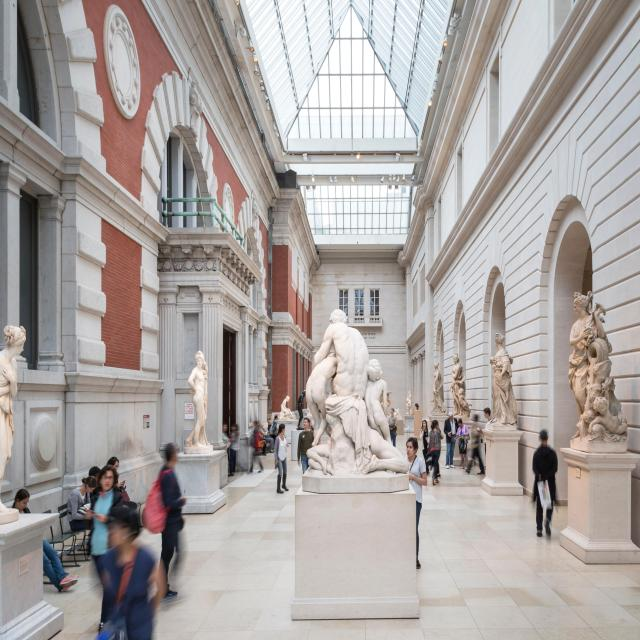body: (304, 308, 409, 474), (86, 498, 170, 640), (568, 290, 628, 444), (140, 441, 189, 605), (11, 488, 79, 593), (1, 323, 28, 532), (399, 435, 429, 571), (82, 464, 123, 543), (531, 429, 558, 538), (488, 332, 518, 426), (184, 349, 211, 448), (66, 475, 98, 532), (106, 456, 138, 513), (450, 352, 473, 416), (426, 418, 444, 486), (465, 414, 485, 475), (274, 424, 290, 494), (297, 417, 315, 475), (476, 407, 494, 461), (443, 410, 459, 470), (247, 421, 264, 474), (455, 417, 471, 471), (226, 422, 238, 477), (433, 361, 445, 412), (420, 420, 430, 475), (259, 422, 275, 453), (434, 419, 442, 479), (387, 408, 398, 448), (280, 395, 295, 419), (268, 419, 280, 444), (269, 414, 279, 444), (297, 389, 304, 429), (222, 422, 231, 451), (409, 389, 412, 419), (90, 466, 102, 472), (309, 416, 313, 429)
